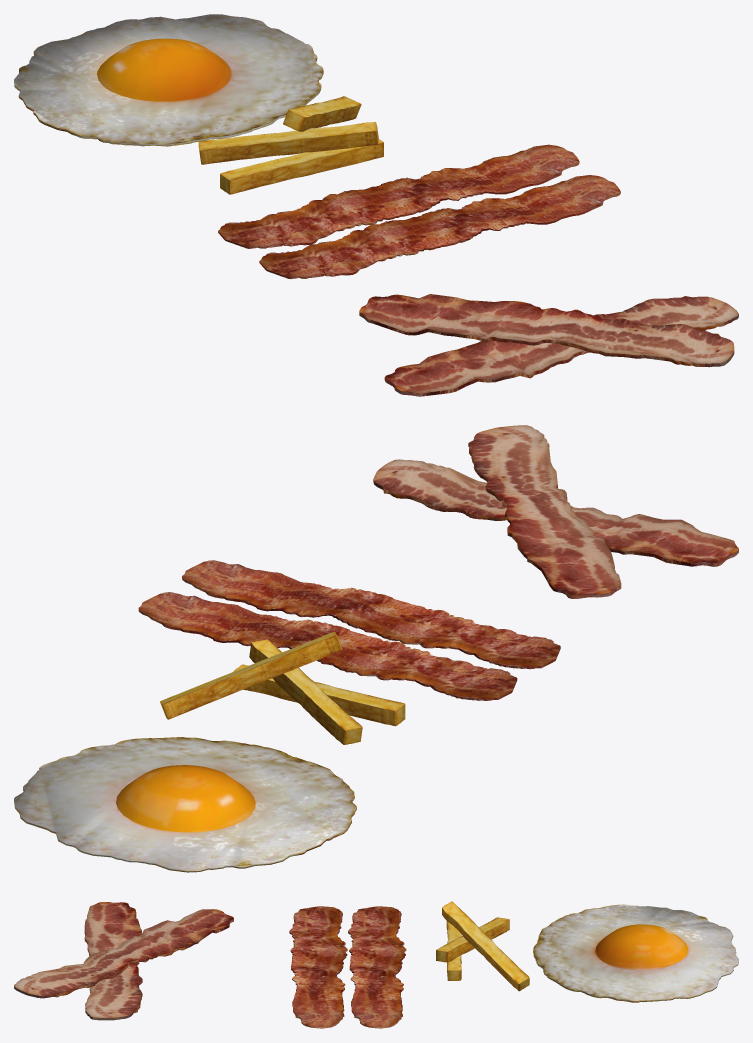
File: simple_food_background.glb
The picture shows the model from 3 angles, top to bottom: view 1: azimuth 30°, elevation 25°; view 2: azimuth 150°, elevation 25°; view 3: azimuth 270°, elevation 25°; orthographic projection. The views are drawn at different scales.
Parts seen in each view (by area): view 1: Plane, Plane.007, Plane.004, Plane.005, Plane.006, Plane.002, Plane.001, Plane.003; view 2: Plane, Plane.004, Plane.007, Plane.005, Plane.006, Plane.003, Plane.002, Plane.001; view 3: Plane, Plane.007, Plane.004, Plane.005, Plane.006, Plane.003, Plane.002, Plane.001.
Boxes of the visible parts, x1,y1,x2,y2 form: Plane: (14,14,323,146); Plane.007: (359,294,734,367); Plane.004: (259,175,620,278); Plane.005: (218,144,579,248); Plane.006: (384,296,738,396); Plane.002: (198,122,378,164); Plane.001: (220,139,383,194); Plane.003: (283,96,361,131); Plane: (14,737,356,872); Plane.004: (182,560,560,669); Plane.007: (468,425,621,598); Plane.005: (138,592,517,700); Plane.006: (373,459,738,566); Plane.003: (160,631,342,719); Plane.002: (249,639,362,744); Plane.001: (233,664,405,726); Plane: (533,904,738,1002); Plane.007: (14,909,233,998); Plane.004: (289,906,347,1028); Plane.005: (348,906,406,1028); Plane.006: (84,902,142,1020); Plane.003: (442,901,529,991); Plane.002: (436,917,509,962); Plane.001: (446,921,461,980).
Size of the model in its own units: 13.16 by 2.62 by 31.39.
Materials: 1 (1 with a texture image).
